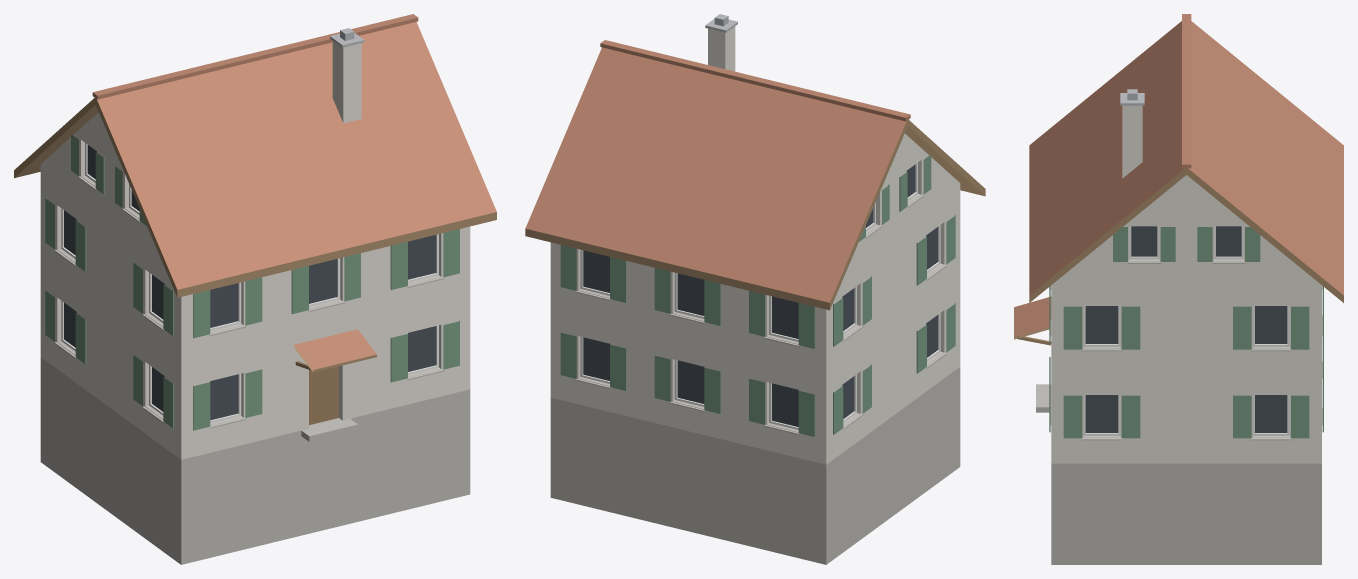
File: house_gable_2_s.glb
The picture shows the model from 3 angles, left to right: view 1: azimuth 30°, elevation 25°; view 2: azimuth 150°, elevation 25°; view 3: azimuth 270°, elevation 25°; orthographic projection. The views are drawn at different scales.
Parts seen in each view (by area): view 1: house_gable_2_s; view 2: house_gable_2_s; view 3: house_gable_2_s.
Boxes of the visible parts, <box> form: house_gable_2_s: <box>14,14,496,564</box>; house_gable_2_s: <box>525,14,985,564</box>; house_gable_2_s: <box>1014,14,1343,564</box>.
Size of the model in its own units: 10.54 by 14.2 by 9.75.
